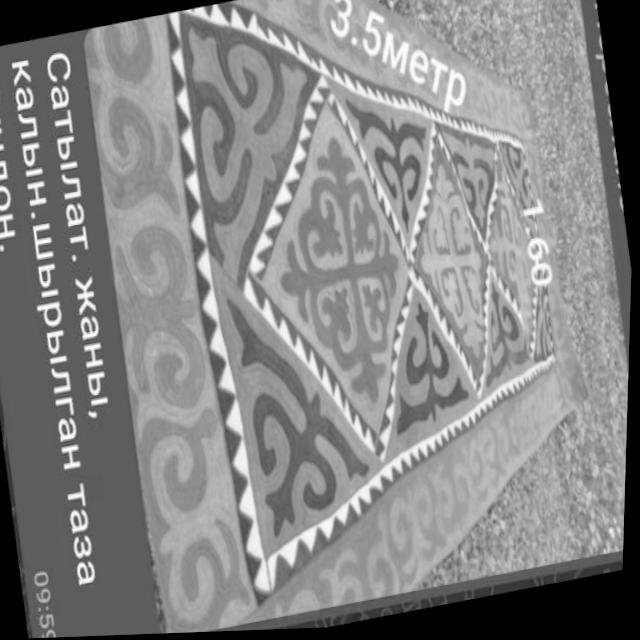Unity: (271, 122, 405, 424), (420, 159, 482, 368), (489, 169, 531, 324)
